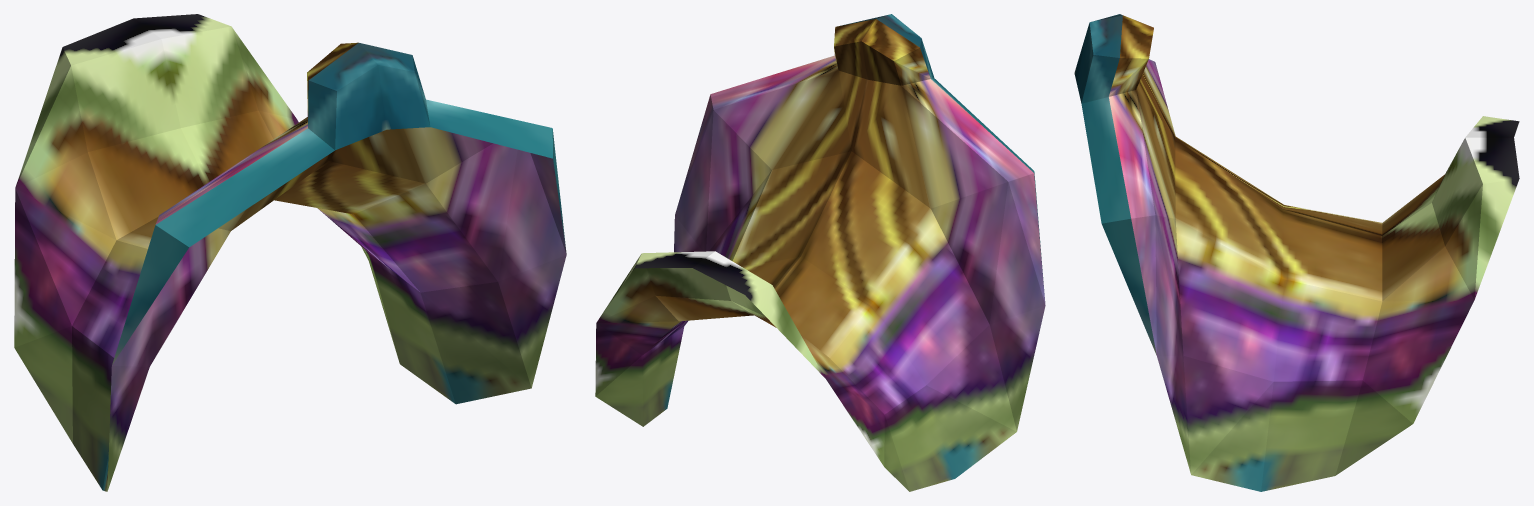
3 renders of one model, left to right at view 1: azimuth 30°, elevation 25°; view 2: azimuth 150°, elevation 25°; view 3: azimuth 270°, elevation 25°, orthographic. The views are drawn at different scales.
Visible parts, largest first — view 1: Object01; view 2: Object01; view 3: Object01.
Boxes of the visible parts, x1=… form: Object01: x1=14, y1=14, x2=566, y2=491; Object01: x1=595, y1=14, x2=1045, y2=491; Object01: x1=1074, y1=14, x2=1519, y2=491.
Size of the model in its own units: 68.81 by 67.22 by 66.95.
